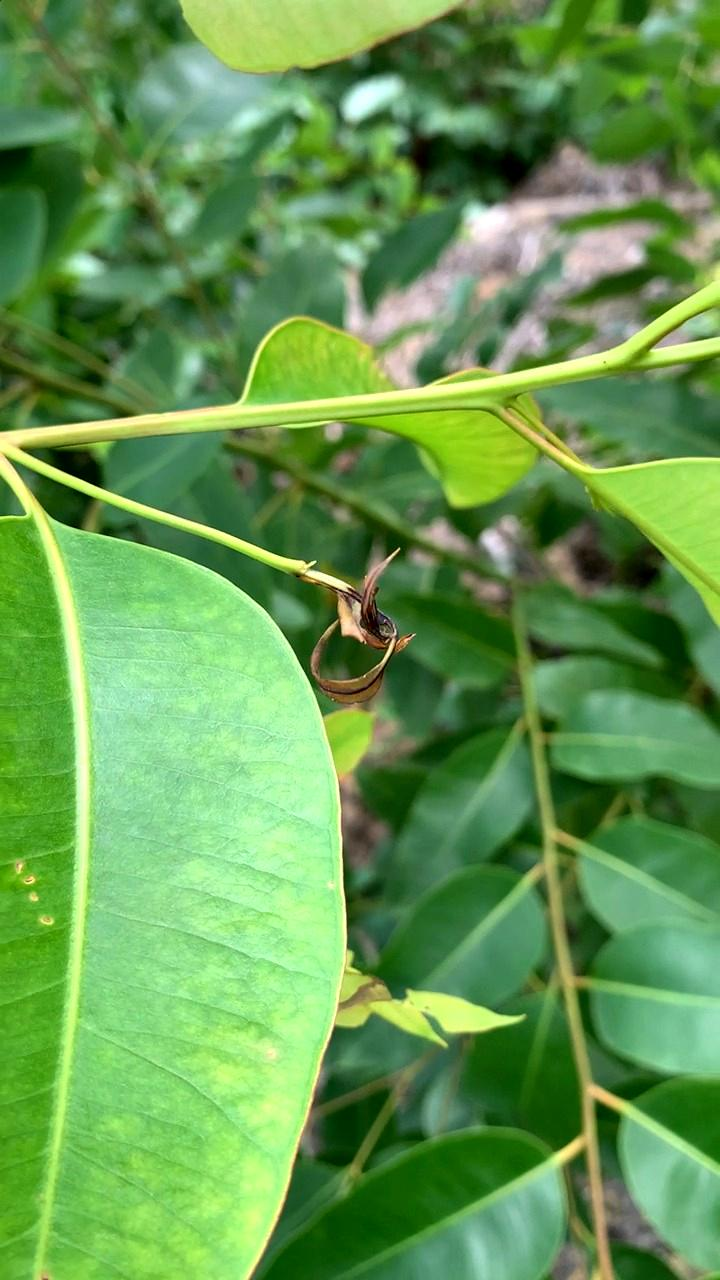Helopeltis-Withered Sprout: (308, 556, 441, 705)
